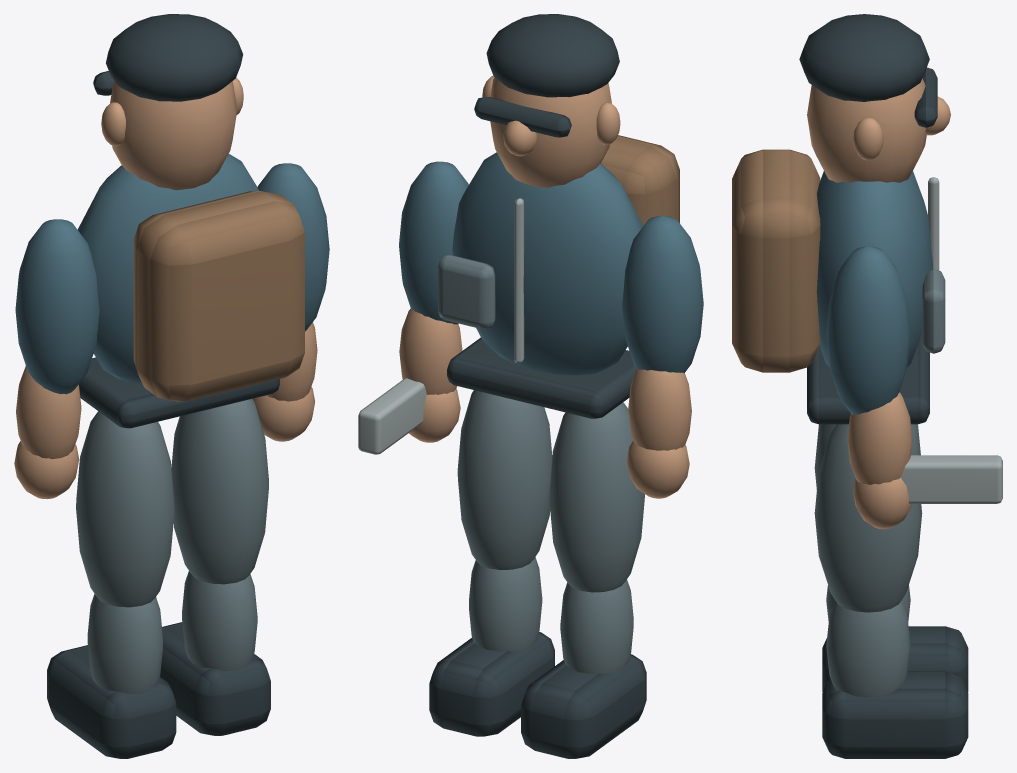
Rendered from runner.glb.
3 renders of one model, left to right at view 1: azimuth 30°, elevation 25°; view 2: azimuth 150°, elevation 25°; view 3: azimuth 270°, elevation 25°, orthographic. The views are drawn at different scales.
Parts seen in each view (by area): view 1: Torso, LegL, LegR, Head, ArmL, ArmR; view 2: Torso, LegL, LegR, Head, ArmL, ArmR, Pistol; view 3: Torso, LegR, Head, ArmR, Pistol, LegL.
Part boxes in pixels (x1,y1,x2,y2): Torso: (77,154,304,428); LegL: (47,411,176,758); LegR: (160,399,270,735); Head: (93,14,243,190); ArmL: (14,219,99,499); ArmR: (252,163,329,441); Torso: (438,135,679,418); LegL: (521,402,646,758); LegR: (429,390,554,736); Head: (474,14,620,187); ArmL: (622,216,703,498); ArmR: (399,161,468,442); Pistol: (358,378,426,454); Torso: (732,149,945,424); LegR: (814,424,968,758); Head: (799,14,950,182); ArmR: (826,246,912,529); Pistol: (900,455,1002,503); LegL: (814,424,968,692).
Bounding box in the file's own units: 0.9 × 2.02 × 0.705.
